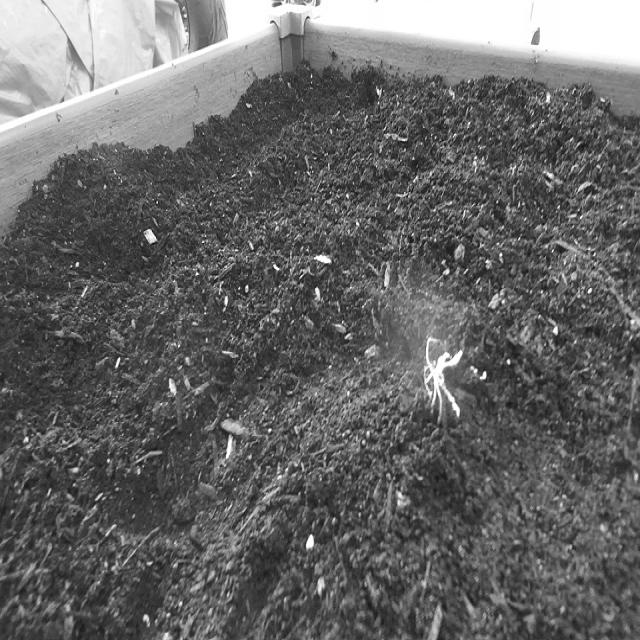Unhealthy: (418, 323, 468, 436)
